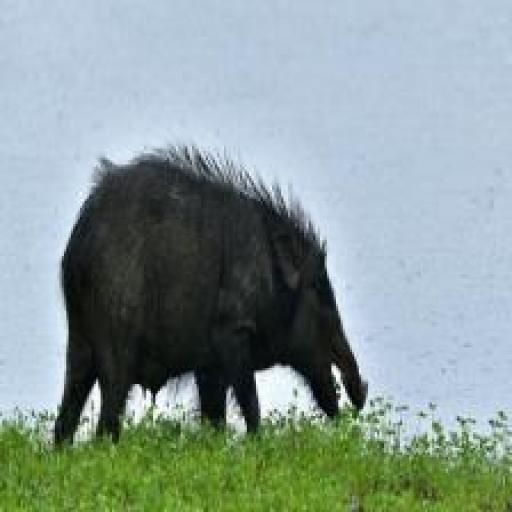Pig: (50, 151, 372, 462)
